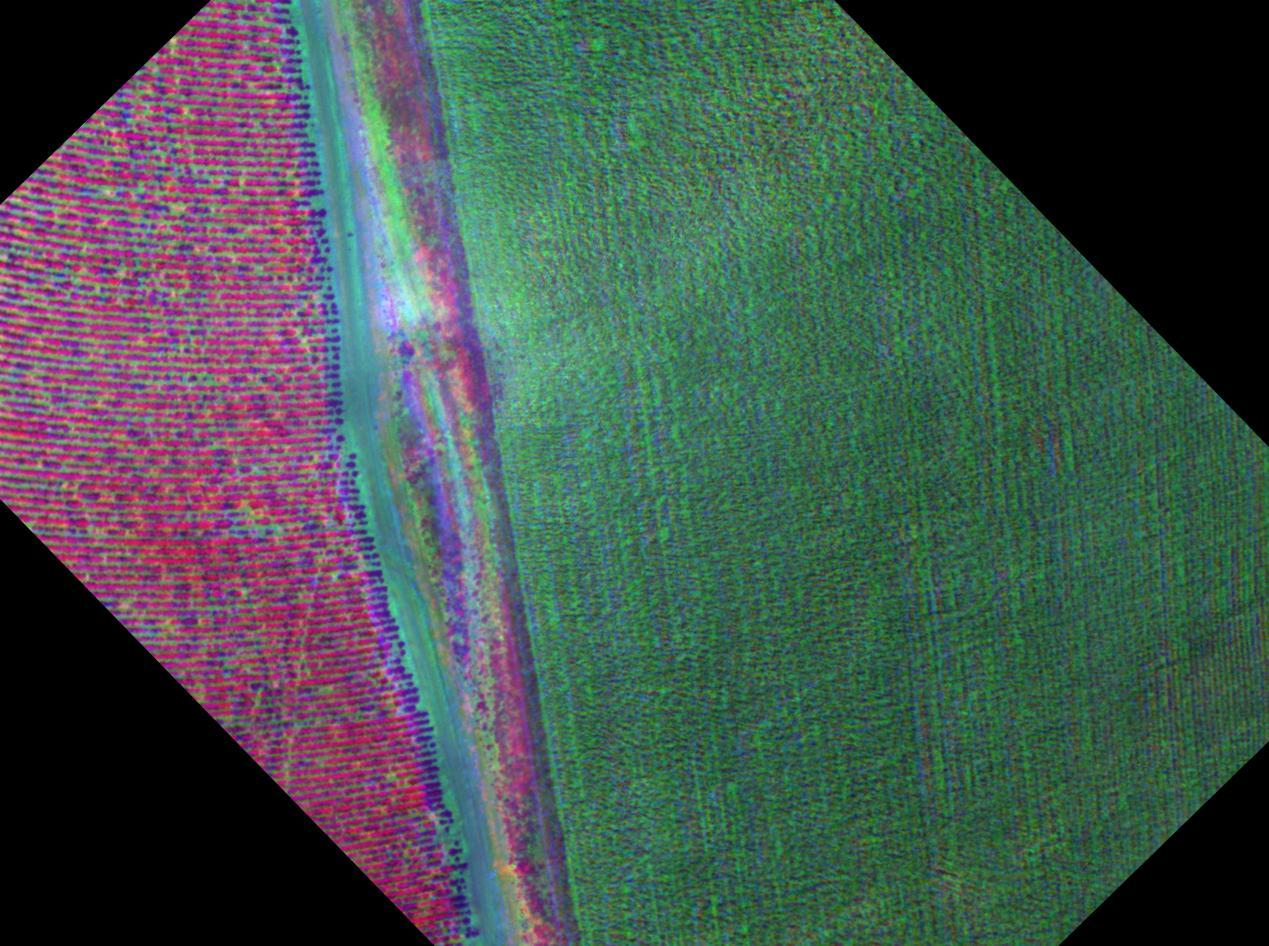dc: (153, 194, 212, 299), (16, 184, 112, 247), (115, 352, 217, 409), (242, 688, 320, 751), (216, 491, 289, 547)
